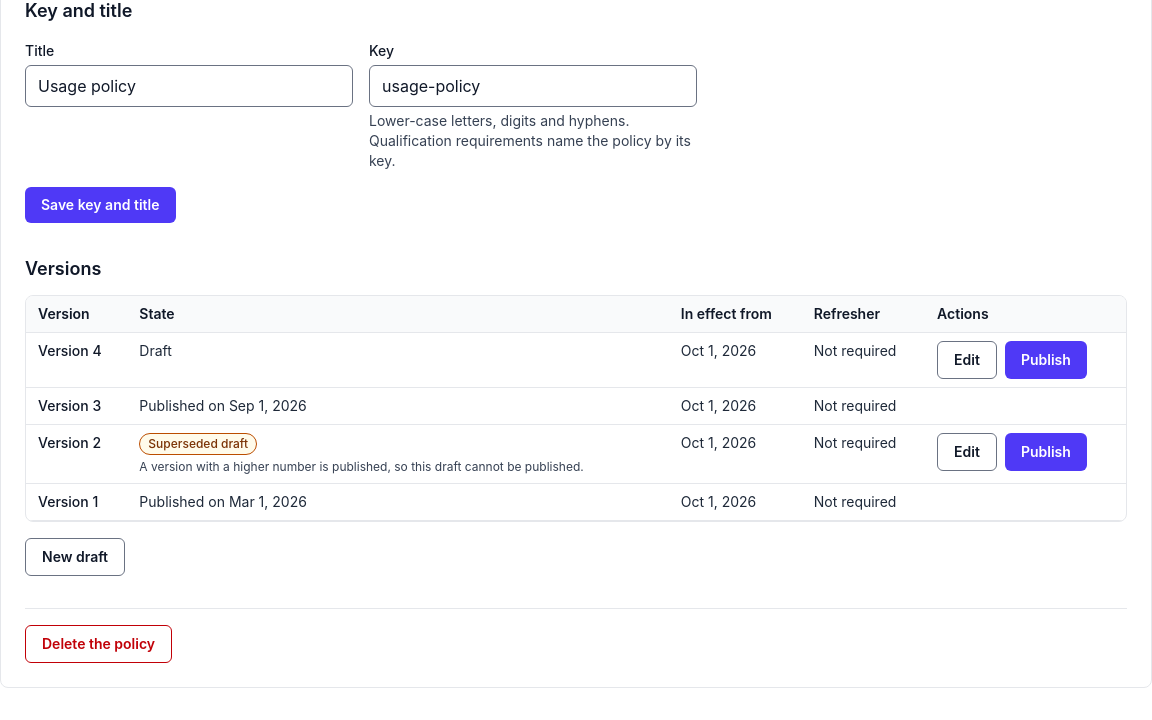
Test: the publish dialog › shows the statement of a 409 superseded answer and no confirmation
(page scrolled)
Click the button named "Publish Version 4" at (1046, 360), box [1005,341,1087,379]
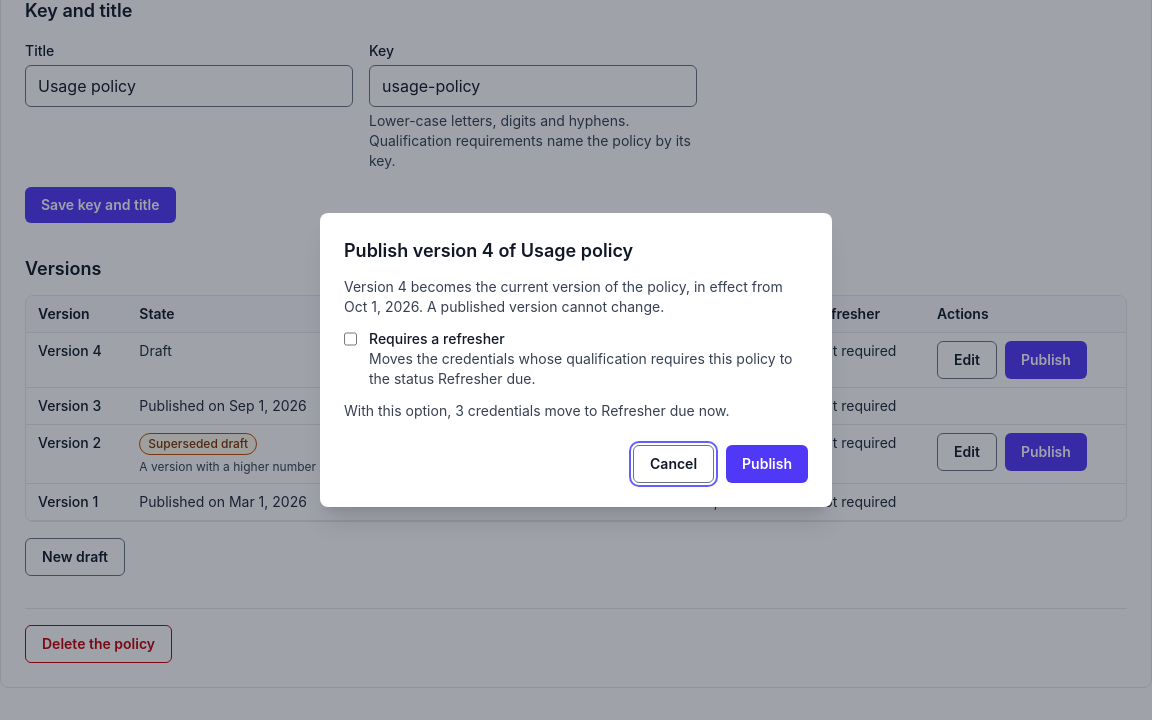
Expected: the text "With this option, 3 credentials move to Refresher due now." is shown, [344,402,730,419]
Click the button "Publish" at (767, 464), box [726,445,808,483]
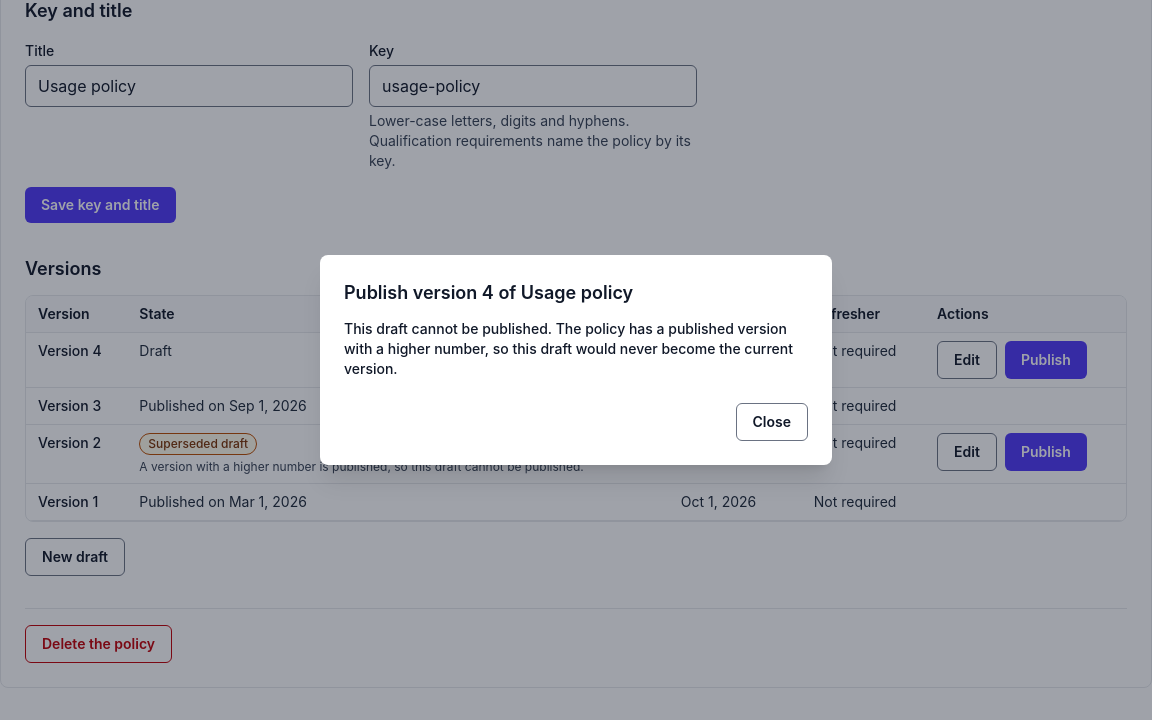
Expected: the message shows "This draft cannot be published. The policy has a published version with a higher number, so this draft would never become the current version.", [344,320,793,377]
Expected: the buttons read "Close", in this order, [736,403,808,441]
